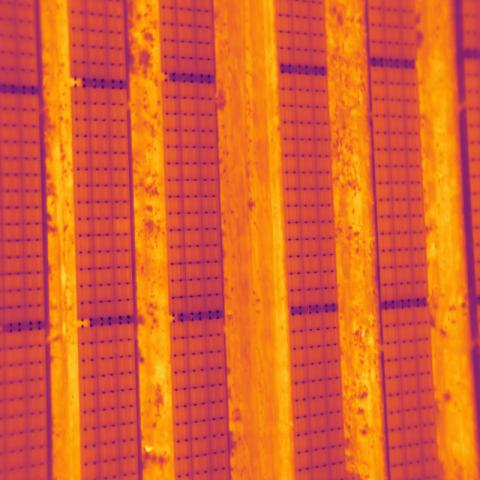fault: (113, 219, 131, 236)
